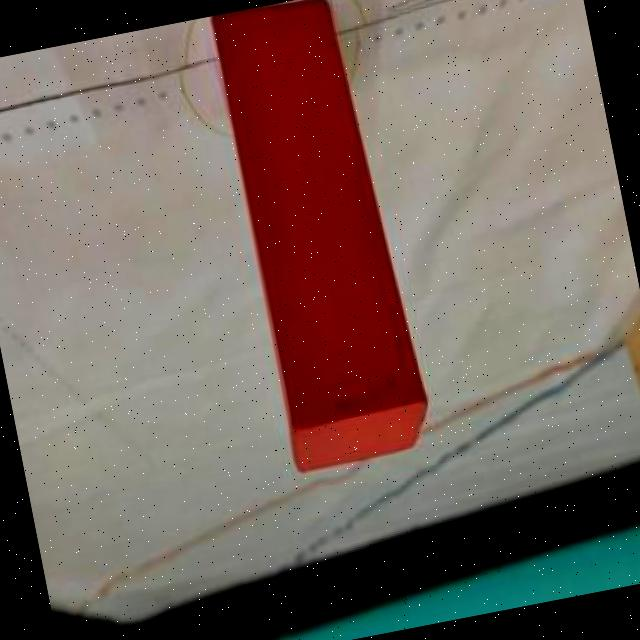redbox: (208, 0, 440, 475)
